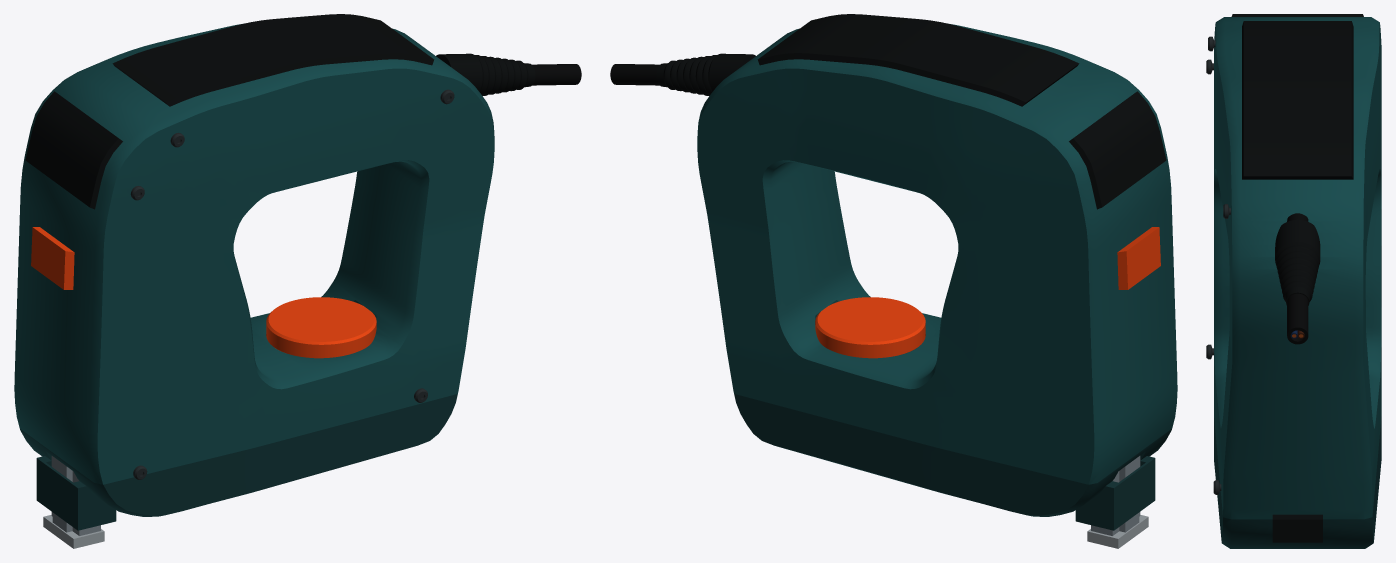
3 renders of one model, left to right at view 1: azimuth 30°, elevation 25°; view 2: azimuth 150°, elevation 25°; view 3: azimuth 270°, elevation 25°, orthographic.
Visible parts, largest first — view 1: part_031_Near_housing_shell, part_050_Far_housing_shell, part_030_Near_lower_magazine_cover, part_053_Crown_grip_saddle, part_039_Fore_protective_cap, part_041_Force_adjustment_wheel, part_033_Molded_nose_surround, part_042_Flexible_cable_strain_relief, part_004_Transverse_mode_rocker, part_013_Short_cable_outer_jacket, part_052_Exposed_steel_contact_foot; view 2: part_050_Far_housing_shell, part_031_Near_housing_shell, part_049_Far_lower_magazine_cover, part_053_Crown_grip_saddle, part_039_Fore_protective_cap, part_041_Force_adjustment_wheel, part_033_Molded_nose_surround, part_042_Flexible_cable_strain_relief, part_004_Transverse_mode_rocker, part_013_Short_cable_outer_jacket, part_052_Exposed_steel_contact_foot; view 3: part_050_Far_housing_shell, part_031_Near_housing_shell, part_053_Crown_grip_saddle, part_042_Flexible_cable_strain_relief, part_049_Far_lower_magazine_cover, part_030_Near_lower_magazine_cover, part_023_Rear_magazine_release, part_013_Short_cable_outer_jacket, part_039_Fore_protective_cap.
Boxes of the visible parts, bbox=[...] form: part_031_Near_housing_shell: bbox=[51, 49, 494, 484]; part_050_Far_housing_shell: bbox=[14, 24, 432, 455]; part_030_Near_lower_magazine_cover: bbox=[57, 394, 457, 516]; part_053_Crown_grip_saddle: bbox=[112, 14, 434, 106]; part_039_Fore_protective_cap: bbox=[25, 91, 122, 209]; part_041_Force_adjustment_wheel: bbox=[266, 297, 376, 358]; part_033_Molded_nose_surround: bbox=[36, 456, 116, 530]; part_042_Flexible_cable_strain_relief: bbox=[436, 53, 535, 95]; part_004_Transverse_mode_rocker: bbox=[31, 227, 74, 289]; part_013_Short_cable_outer_jacket: bbox=[532, 64, 581, 85]; part_052_Exposed_steel_contact_foot: bbox=[43, 515, 104, 548]; part_050_Far_housing_shell: bbox=[697, 49, 1140, 484]; part_031_Near_housing_shell: bbox=[759, 24, 1177, 455]; part_049_Far_lower_magazine_cover: bbox=[734, 394, 1134, 516]; part_053_Crown_grip_saddle: bbox=[757, 14, 1079, 106]; part_039_Fore_protective_cap: bbox=[1069, 91, 1166, 209]; part_041_Force_adjustment_wheel: bbox=[815, 297, 925, 358]; part_033_Molded_nose_surround: bbox=[1075, 456, 1155, 530]; part_042_Flexible_cable_strain_relief: bbox=[656, 53, 755, 95]; part_004_Transverse_mode_rocker: bbox=[1117, 227, 1160, 289]; part_013_Short_cable_outer_jacket: bbox=[610, 64, 659, 85]; part_052_Exposed_steel_contact_foot: bbox=[1087, 515, 1148, 548]; part_050_Far_housing_shell: bbox=[1297, 17, 1381, 519]; part_031_Near_housing_shell: bbox=[1214, 17, 1297, 519]; part_053_Crown_grip_saddle: bbox=[1242, 21, 1353, 179]; part_042_Flexible_cable_strain_relief: bbox=[1275, 219, 1320, 305]; part_049_Far_lower_magazine_cover: bbox=[1297, 416, 1381, 548]; part_030_Near_lower_magazine_cover: bbox=[1214, 418, 1297, 548]; part_023_Rear_magazine_release: bbox=[1272, 514, 1322, 542]; part_013_Short_cable_outer_jacket: bbox=[1287, 213, 1308, 344]; part_039_Fore_protective_cap: bbox=[1231, 14, 1363, 16].
Size of the model in its own units: 0.2219 by 0.177 by 0.0627.
